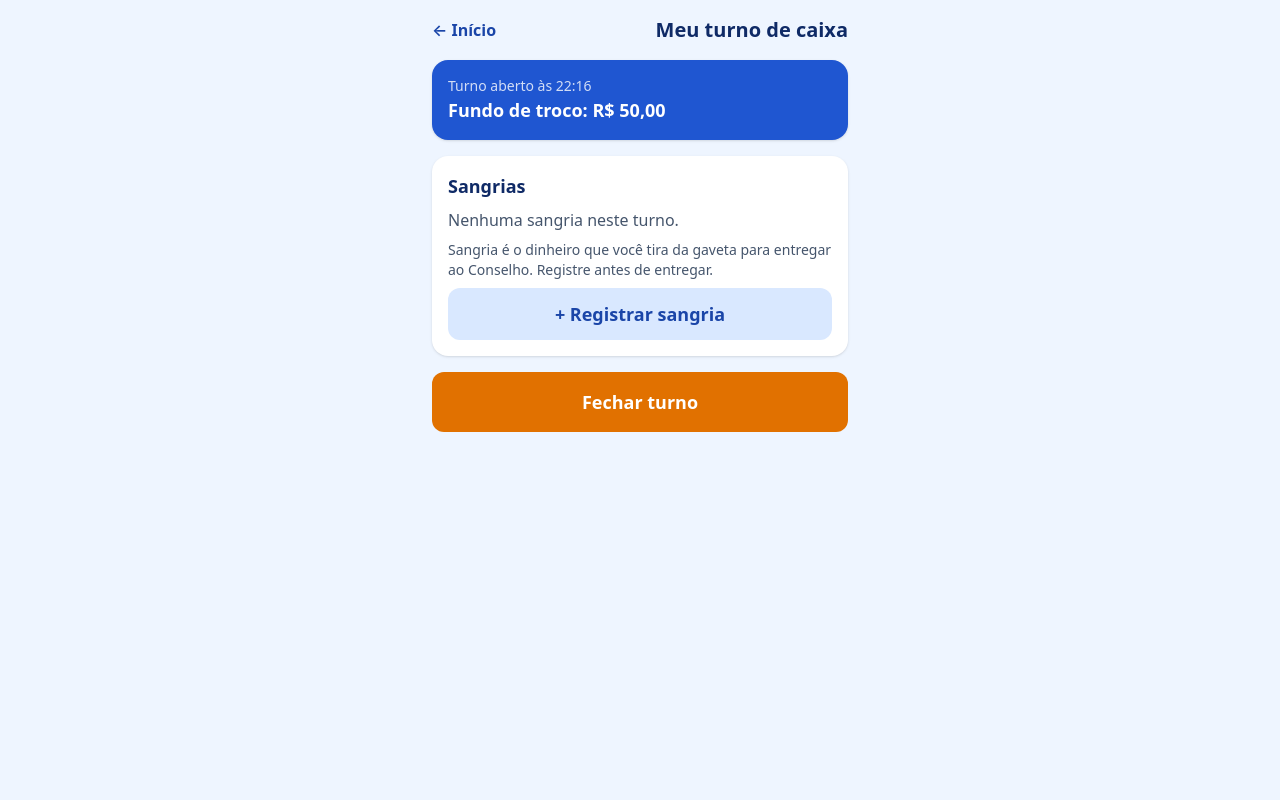
Scenario: turno do caixa › código com menos de 6 dígitos é recusado sem chamar o servidor
The image size is (1280, 800).
Check: the text "Fundo de troco: R$ 50,00" is shown, box [448,98,666,122]
Click the button "+ Registrar sangria".
click(640, 314)  # box [448,288,832,340]
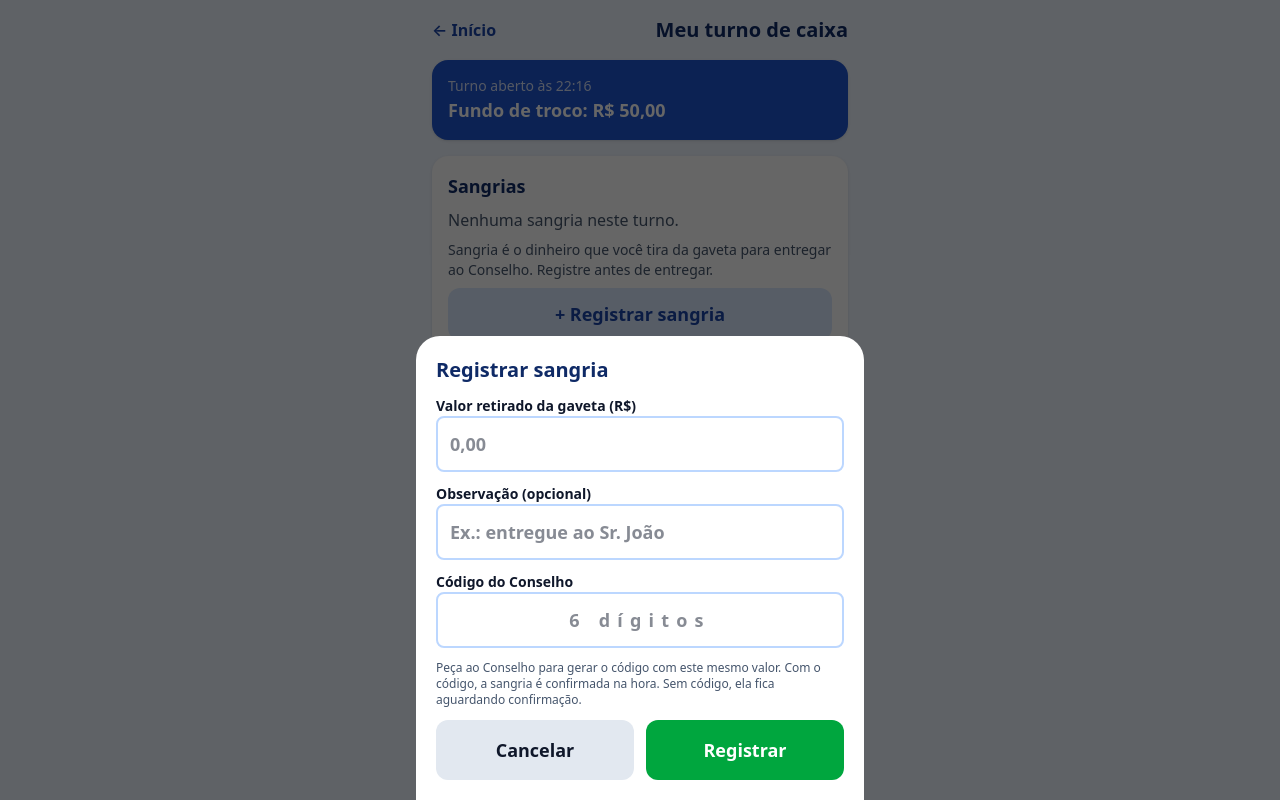
Type "50" into the field named "Valor da sangria".
click(640, 444); type("50")  # box [436,416,844,472]
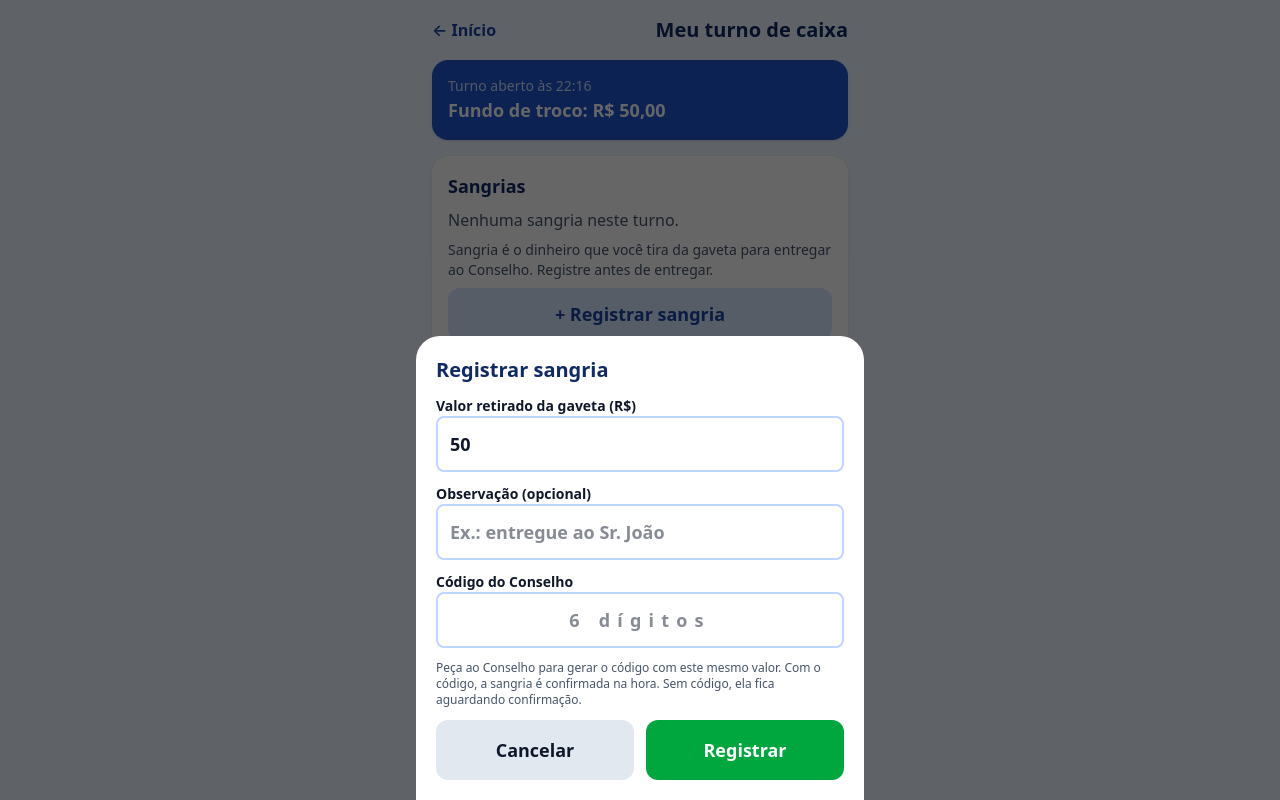
Type "123" into the field labelled "Código do Conselho".
click(640, 620); type("123")  # box [436,592,844,648]
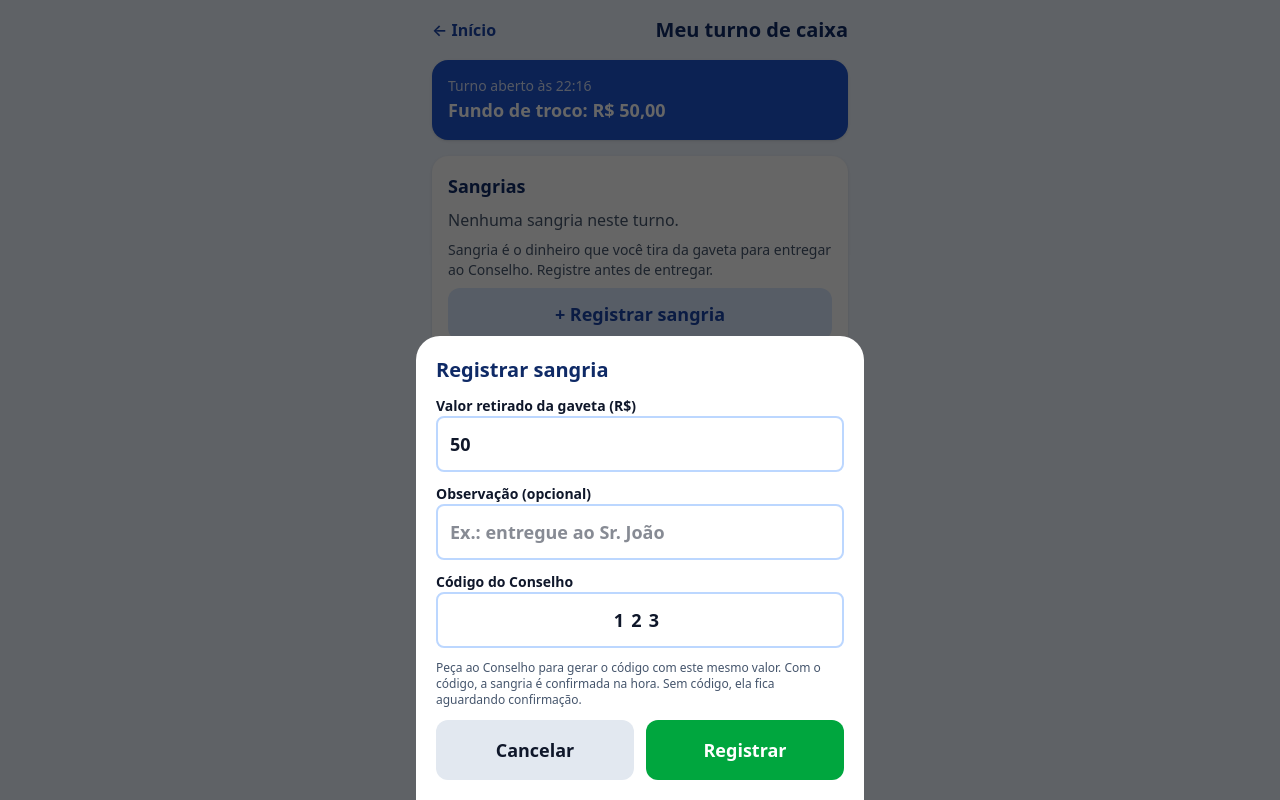
Click the button "Registrar".
click(745, 750)  # box [646,720,844,780]
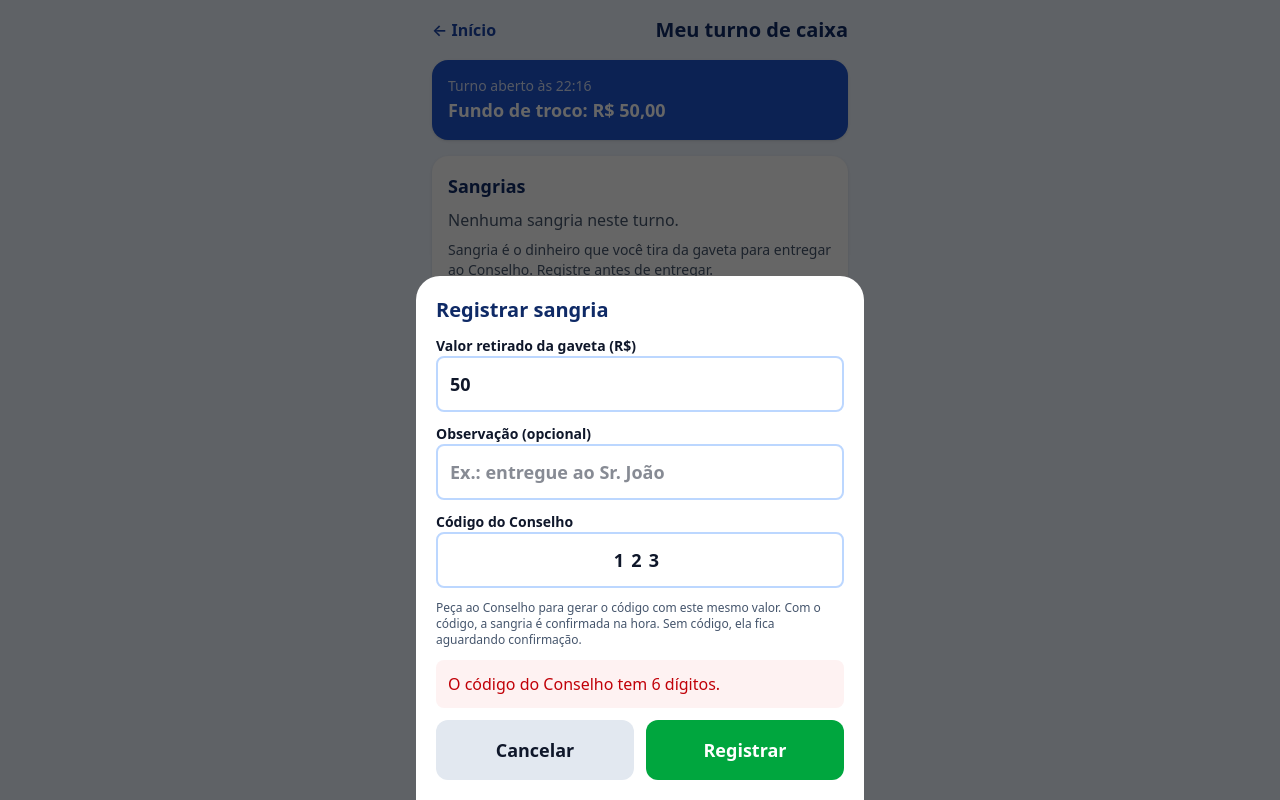
Check: the message shows "6 dígitos", box [448,673,720,695]
